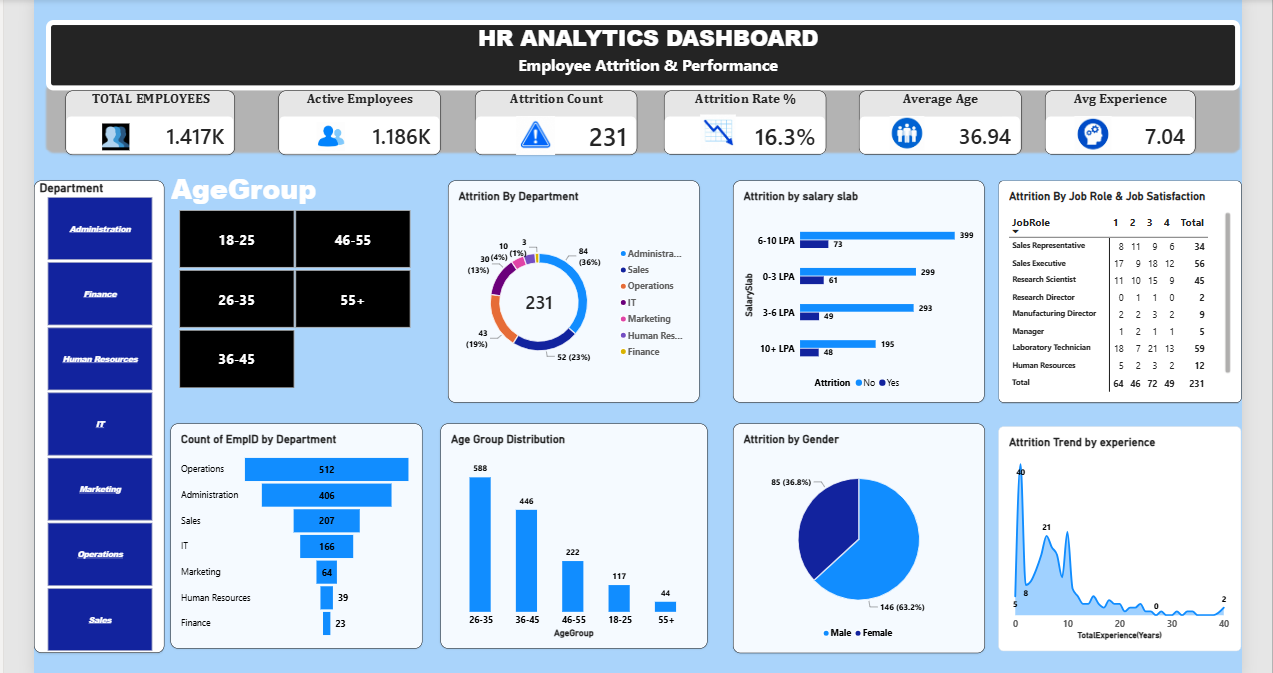

Layout of this report page (visuals, bound fields, positions):
{"tool":"powerbi","page":{"name":"Page 1","canvas":[1920,1080],"ordinal":0},"visuals":[{"type":"textbox","title":" HR ANALYTICS DASHBOARD","box":[19,33,1899.2,112.1],"z":0},{"type":"cardVisual","title":"TOTAL EMPLOYEES","fields":{"Data":["CountNonNull(HR_Analytics-4.EmpID)"]},"box":[50.1,145.5,269.6,102.6],"z":1000},{"type":"cardVisual","title":"Active Employees","fields":{"Data":["CountNonNull(HR_Analytics-4.EmployeeCount)"]},"box":[388.9,145.5,258,102.4],"z":2000},{"type":"cardVisual","title":"Attrition Count","fields":{"Data":["Sum(HR_Analytics-4.AttritionCount)"]},"box":[701.5,145.5,258,102.4],"z":3000},{"type":"cardVisual","title":"Avg Experience","fields":{"Data":["Avg(HR_Analytics-4.YearsatCompany)"]},"box":[1608.1,145.5,239.1,102.2],"z":4000},{"type":"cardVisual","title":"Average Age","fields":{"Data":["Avg(HR_Analytics-4.Age)"]},"box":[1312.3,145.5,258.7,102.2],"z":5000},{"type":"cardVisual","title":"Attrition Rate %","fields":{"Data":["HR_Analytics-4.Attrition Rate %"]},"box":[1002.1,145.5,258,102.2],"z":6000},{"type":"donutChart","title":"Attrition By Department","fields":{"Category":["HR_Analytics-4.Department"],"Y":["Sum(HR_Analytics-4.AttritionCount)"]},"box":[658.5,288.7,400,353.3],"z":7000},{"type":"clusteredBarChart","title":"Attrition by salary slab","fields":{"Category":["HR_Analytics-4.SalarySlab"],"Series":["HR_Analytics-4.Attrition"],"Y":["CountNonNull(HR_Analytics-4.EmpID)"]},"box":[1111.8,288.7,400,353],"z":8000},{"type":"pivotTable","title":"Attrition By Job Role & Job Satisfaction","fields":{"Columns":["HR_Analytics-4.JobSatisfaction"],"Rows":["HR_Analytics-4.JobRole"],"Values":["Sum(HR_Analytics-4.AttritionCount)"]},"box":[1534.1,288.7,386.5,353.1],"z":9000},{"type":"columnChart","title":"Age Group Distribution","fields":{"Category":["HR_Analytics-4.AgeGroup"],"Y":["Sum(HR_Analytics-4.EmployeeCount)"]},"box":[646.6,675.2,424.7,357.9],"z":10000},{"type":"pieChart","title":"Attrition by Gender","fields":{"Category":["HR_Analytics-4.Gender"],"Y":["Sum(HR_Analytics-4.AttritionCount)"]},"box":[1111.8,675.2,400.8,365],"z":11000},{"type":"areaChart","title":"Attrition Trend by experience","fields":{"Category":["HR_Analytics-4.TotalExperience(Years)"],"Y":["Sum(HR_Analytics-4.AttritionCount)"]},"box":[1534.1,680,385.7,357.1],"z":12000},{"type":"funnel","fields":{"Category":["HR_Analytics-4.Department"],"Y":["CountNonNull(HR_Analytics-4.EmpID)"]},"box":[217.1,675.2,400.8,357.9],"z":13000},{"type":"slicer","fields":{"Values":["HR_Analytics-4.Department"]},"box":[0,288.7,207.6,751.6],"z":14000},{"type":"slicer","fields":{"Values":["HR_Analytics-4.AgeGroup"]},"box":[210,272,408,348.3],"z":15000},{"type":"image","box":[93.1,198,74,42.9],"z":16000},{"type":"image","box":[417.5,195.6,109.8,45.3],"z":17000},{"type":"image","box":[718.2,186.1,159.9,62],"z":18000},{"type":"image","box":[937.7,183.7,300.6,57.3],"z":19000},{"type":"image","box":[1238.3,186.1,300.6,54.9],"z":20000},{"type":"image","box":[1534.1,186.1,300.6,59.6],"z":21000}]}

Visuals, with their boxes on the page's 1920x1080 design canvas (x1, y1, x2, y2). These are canvas units, not pixel positions in the 1273x673 screenshot, which may show the page scaled, cropped or inside an application window:
" HR ANALYTICS DASHBOARD" textbox: bbox=[19, 33, 1918, 145]
"TOTAL EMPLOYEES" cardVisual: bbox=[50, 146, 320, 248]
"Active Employees" cardVisual: bbox=[389, 146, 647, 248]
"Attrition Count" cardVisual: bbox=[702, 146, 960, 248]
"Avg Experience" cardVisual: bbox=[1608, 146, 1847, 248]
"Average Age" cardVisual: bbox=[1312, 146, 1571, 248]
"Attrition Rate %" cardVisual: bbox=[1002, 146, 1260, 248]
"Attrition By Department" donutChart: bbox=[658, 289, 1058, 642]
"Attrition by salary slab" clusteredBarChart: bbox=[1112, 289, 1512, 642]
"Attrition By Job Role & Job Satisfaction" pivotTable: bbox=[1534, 289, 1921, 642]
"Age Group Distribution" columnChart: bbox=[647, 675, 1071, 1033]
"Attrition by Gender" pieChart: bbox=[1112, 675, 1513, 1040]
"Attrition Trend by experience" areaChart: bbox=[1534, 680, 1920, 1037]
funnel - HR_Analytics-4.Department x CountNonNull(HR_Analytics-4.EmpID): bbox=[217, 675, 618, 1033]
slicer - HR_Analytics-4.Department: bbox=[0, 289, 208, 1040]
slicer - HR_Analytics-4.AgeGroup: bbox=[210, 272, 618, 620]
image: bbox=[93, 198, 167, 241]
image: bbox=[418, 196, 527, 241]
image: bbox=[718, 186, 878, 248]
image: bbox=[938, 184, 1238, 241]
image: bbox=[1238, 186, 1539, 241]
image: bbox=[1534, 186, 1835, 246]
